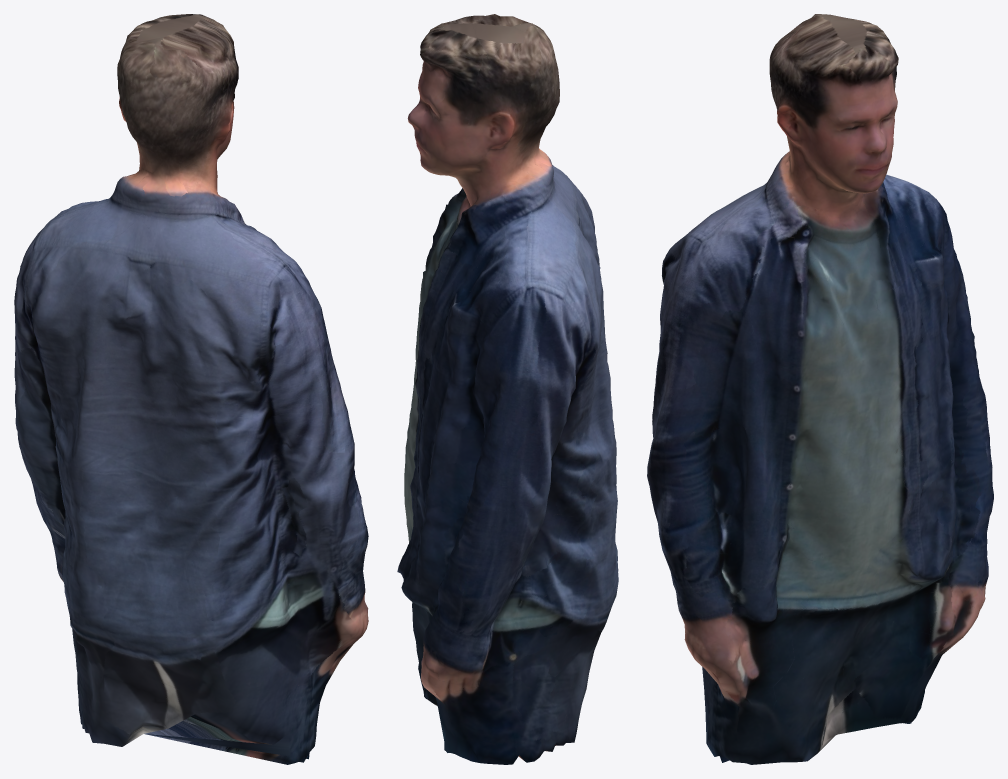
The model's file is hero-bust.glb.
3 renders of one model, left to right at view 1: azimuth 30°, elevation 25°; view 2: azimuth 150°, elevation 25°; view 3: azimuth 270°, elevation 25°, orthographic.
Visible parts, largest first — view 1: baked_mesh_95536eed; view 2: baked_mesh_95536eed; view 3: baked_mesh_95536eed.
Part boxes in pixels (x1,y1,x2,y2): baked_mesh_95536eed: (14,14,368,764); baked_mesh_95536eed: (397,14,618,764); baked_mesh_95536eed: (647,14,993,764).
Size of the model in its own units: 0.4728 by 1.24 by 0.5588.
Materials: 1 (1 with a texture image).
